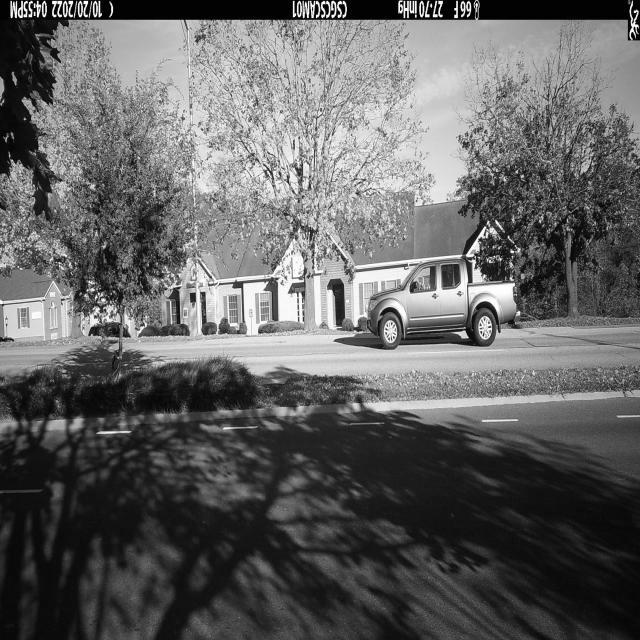Pickup: (367, 256, 520, 351)
